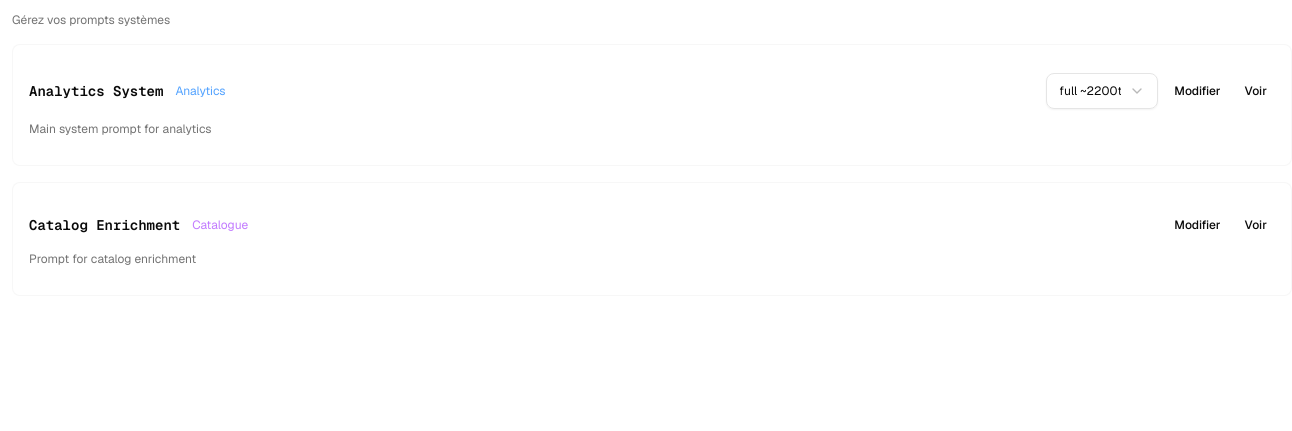
PromptsTab › Expand/Collapse › should expand prompt content when Show is clicked
Expected: the text "Analytics System" is shown, [29,81,163,101]
Click the button "Voir" in the row of "Analytics System" at (1256, 91), box [1236,77,1275,105]
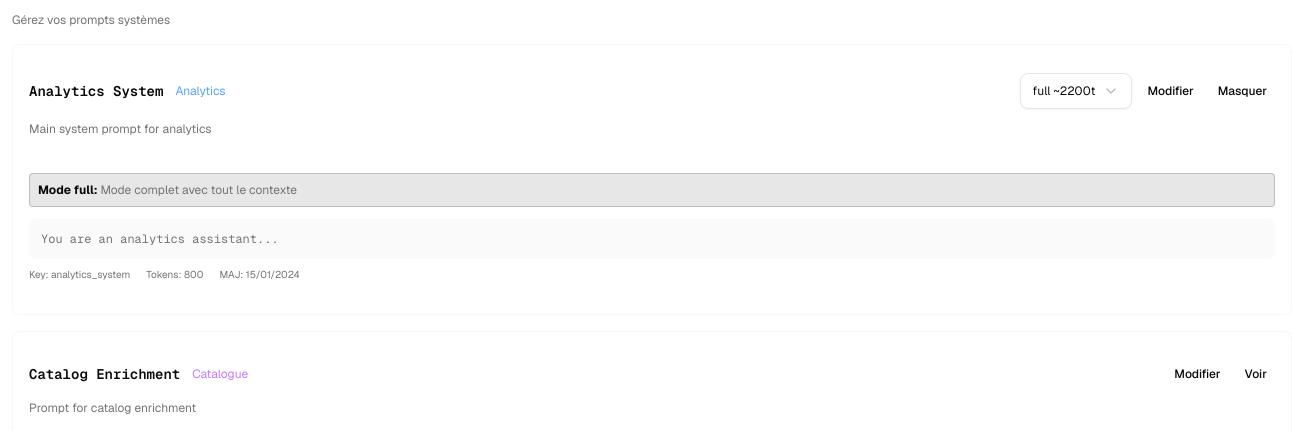
Expected: the text "You are an analytics assistant..." is shown, [41,231,279,247]
